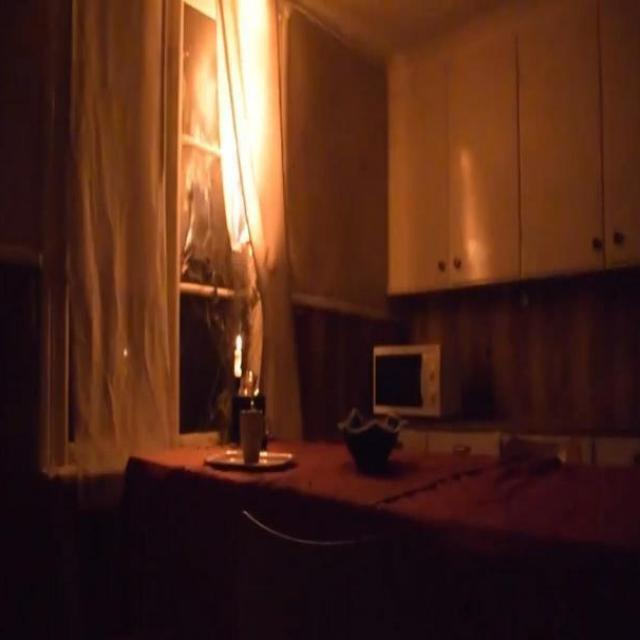smoke: (218, 0, 278, 259), (230, 332, 246, 382)
